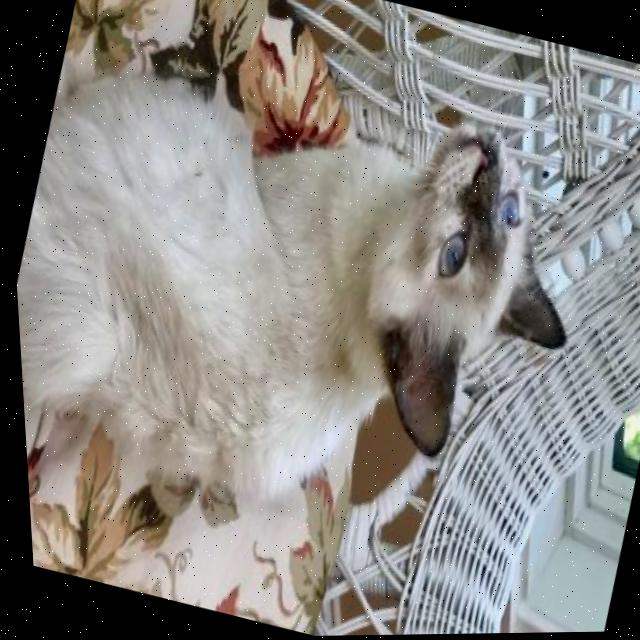Ragdoll: (1, 6, 629, 579)
